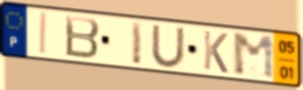B: (63, 14, 101, 61)
I: (130, 20, 145, 67), (38, 10, 49, 57)
K: (202, 29, 230, 76)
M: (230, 32, 278, 81)
U: (149, 23, 187, 70)
